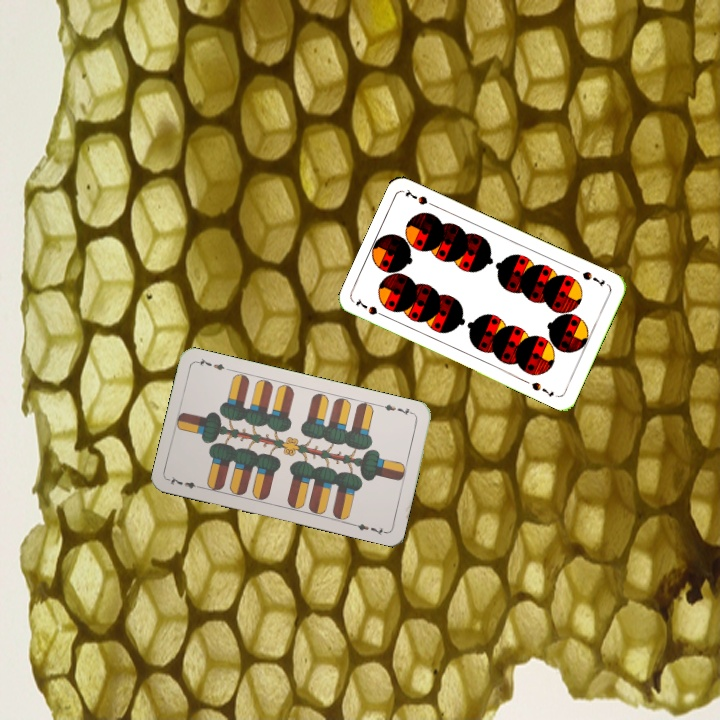E7: (165, 472, 205, 492), (377, 400, 417, 418)
S7: (352, 294, 389, 320), (578, 267, 608, 289)
